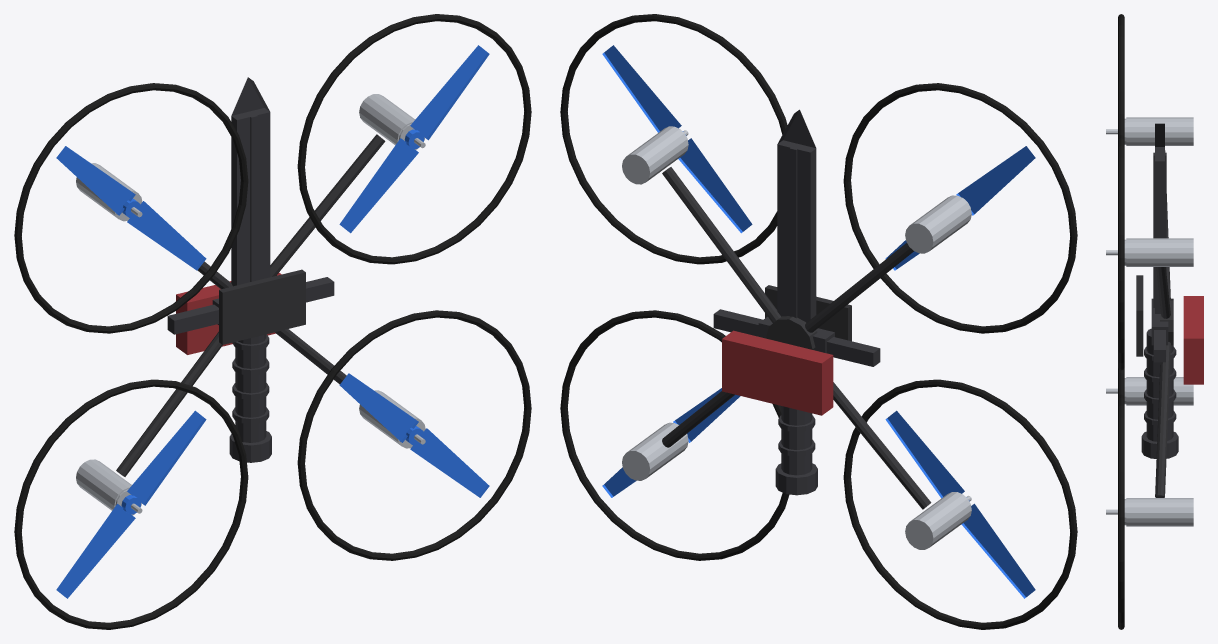
Rendered from dron_espada_unity.glb.
The picture shows the model from 3 angles, left to right: view 1: azimuth 30°, elevation 25°; view 2: azimuth 150°, elevation 25°; view 3: azimuth 270°, elevation 25°; orthographic projection. The views are drawn at different scales.
Visible parts, largest first — view 1: Body, Guard_2_FR, Guard_4_BL, Guard_1_FL, Guard_3_BR, Arms, Board, Prop_4_BL, Prop_2_FR, Prop_3_BR, Prop_1_FL, Motor_2_FR (+4 smaller); view 2: Body, Arms, Battery, Guard_4_BL, Guard_1_FL, Guard_2_FR, Guard_3_BR, Prop_2_FR, Prop_4_BL, Motor_2_FR, Motor_4_BL, Motor_1_FL (+4 smaller); view 3: Body, Arms, Motor_2_FR, Motor_3_BR, Motor_1_FL, Battery, Guard_2_FR, Guard_3_BR, Motor_4_BL, Guard_1_FL, Board, Guard_4_BL.
Part boxes in pixels (box(x1,y1,x2,y2)): Body: box(167, 77, 334, 462); Guard_2_FR: box(297, 14, 531, 264); Guard_4_BL: box(14, 379, 248, 629); Guard_1_FL: box(14, 83, 248, 333); Guard_3_BR: box(297, 310, 531, 560); Arms: box(116, 134, 385, 476); Board: box(219, 269, 305, 344); Prop_4_BL: box(56, 410, 206, 598); Prop_2_FR: box(339, 45, 489, 233); Prop_3_BR: box(339, 373, 489, 497); Prop_1_FL: box(56, 146, 206, 270); Motor_2_FR: box(359, 94, 425, 149); Body: box(713, 109, 880, 495); Arms: box(662, 167, 931, 509); Battery: box(722, 330, 833, 415); Guard_4_BL: box(843, 379, 1077, 629); Guard_1_FL: box(843, 83, 1077, 333); Guard_2_FR: box(560, 14, 787, 264); Guard_3_BR: box(560, 310, 789, 560); Prop_2_FR: box(602, 45, 752, 233); Prop_4_BL: box(885, 410, 1035, 598); Motor_2_FR: box(622, 126, 688, 184); Motor_4_BL: box(905, 492, 971, 549); Motor_1_FL: box(905, 195, 971, 253); Body: box(1141, 123, 1178, 458); Arms: box(1155, 150, 1173, 497); Motor_2_FR: box(1106, 238, 1193, 266); Motor_3_BR: box(1106, 498, 1193, 526); Motor_1_FL: box(1106, 117, 1193, 145); Battery: box(1183, 296, 1203, 384); Guard_2_FR: box(1118, 135, 1124, 370); Guard_3_BR: box(1118, 394, 1124, 629); Motor_4_BL: box(1106, 377, 1193, 405); Guard_1_FL: box(1118, 14, 1124, 137); Board: box(1136, 275, 1143, 356); Guard_4_BL: box(1118, 368, 1124, 396).
Size of the model in its own units: 0.155 by 0.155 by 0.029.
